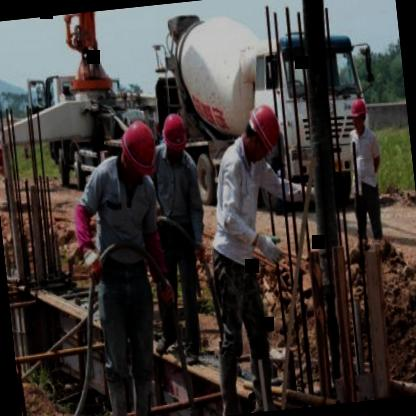helmet: (114, 115, 162, 186), (238, 95, 284, 167), (159, 110, 188, 161), (348, 96, 372, 140)
